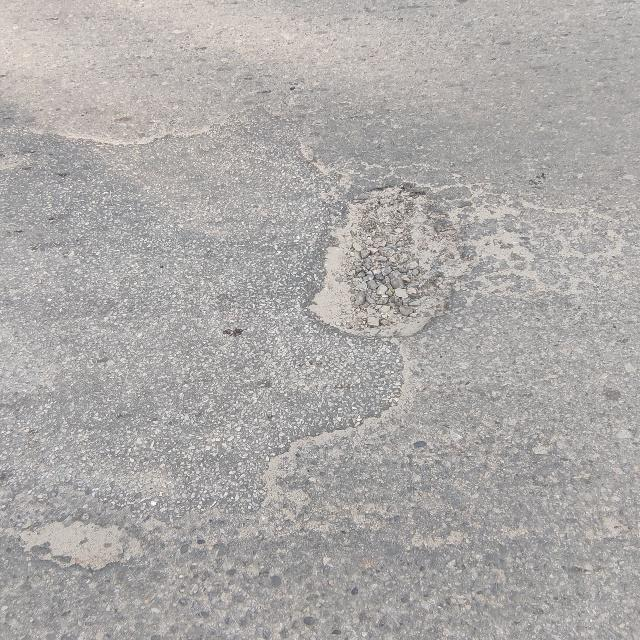Surface Erosion: (97, 101, 640, 640)
